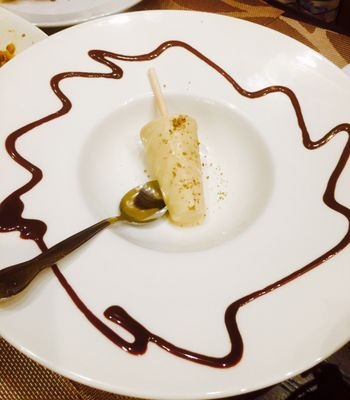salad: (1, 179, 168, 301)
